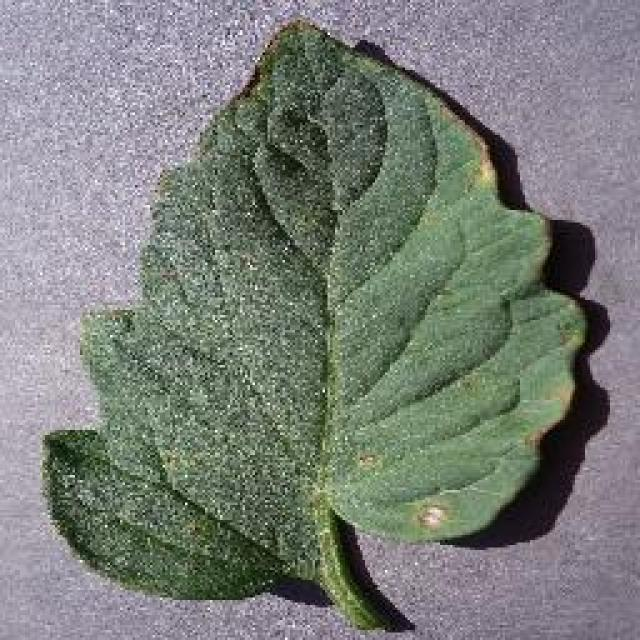Tom_Target_Spot: (146, 230, 295, 332), (390, 479, 468, 545), (342, 423, 396, 488)
